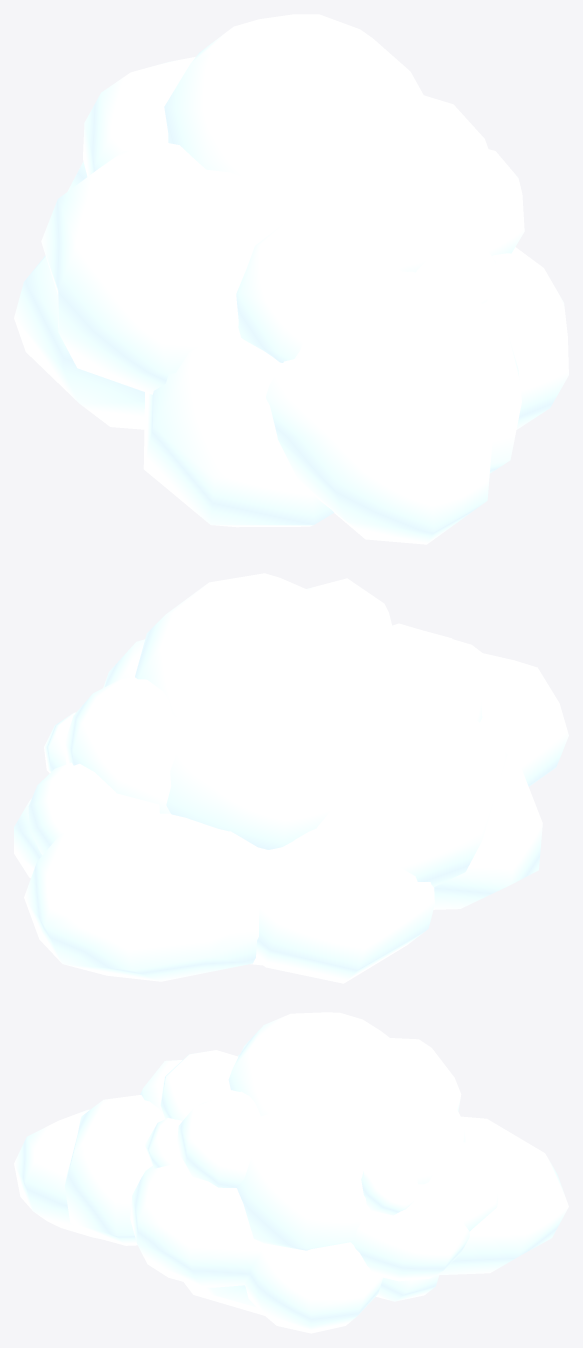
File: Cloud_1.fbx
The picture shows the model from 3 angles, top to bottom: view 1: azimuth 30°, elevation 25°; view 2: azimuth 150°, elevation 25°; view 3: azimuth 270°, elevation 25°; orthographic projection. The views are drawn at different scales.
Parts seen in each view (by area): view 1: polySurface45; view 2: polySurface45; view 3: polySurface45.
Boxes of the visible parts, x1=… form: polySurface45: x1=14, y1=14, x2=568, y2=544; polySurface45: x1=14, y1=573, x2=568, y2=983; polySurface45: x1=14, y1=1012, x2=568, y2=1333.
Size of the model in its own units: 13.59 by 12.41 by 22.03.
